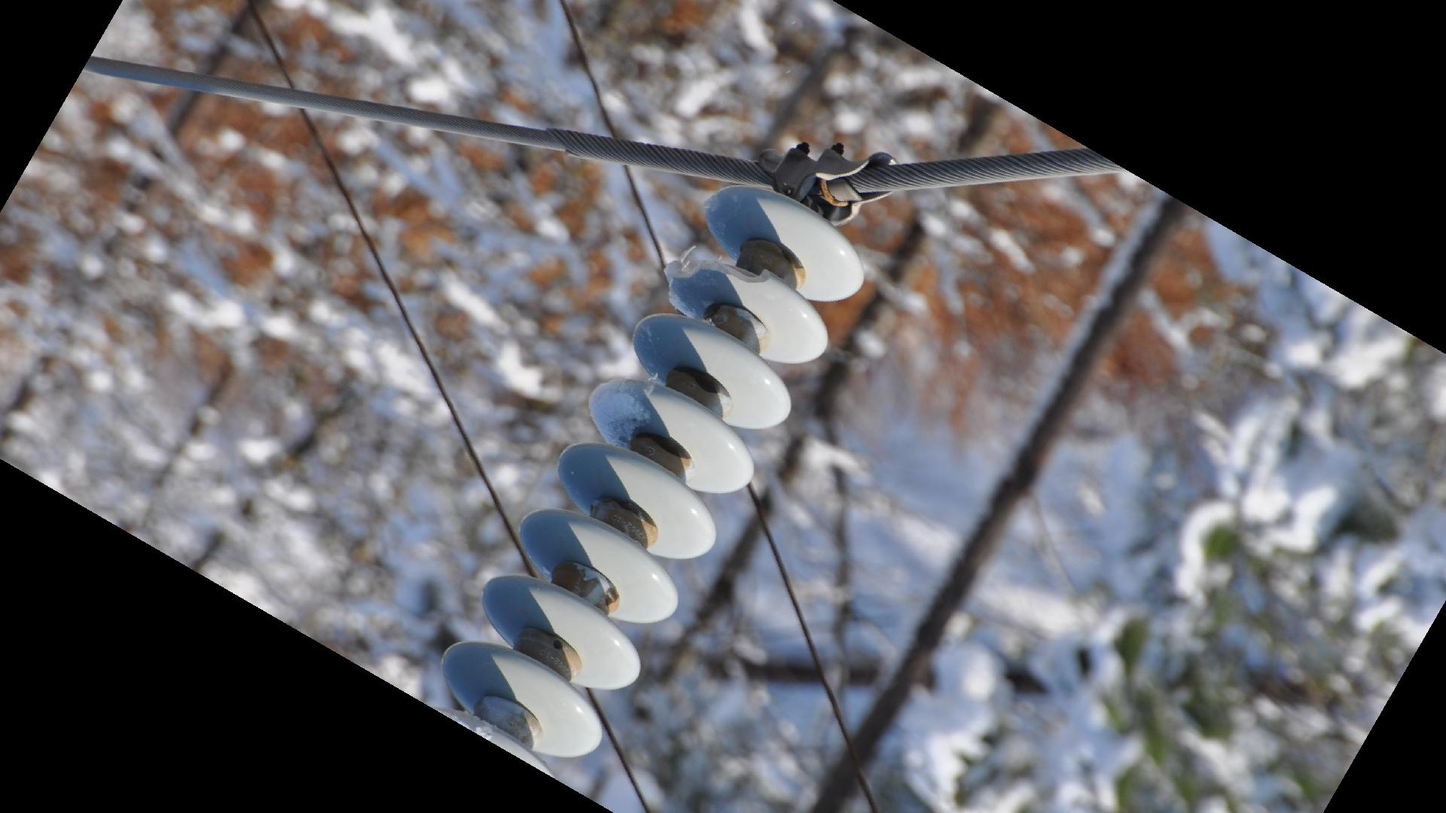insulator: (433, 178, 871, 767)
insulator_breakage: (658, 253, 779, 307)
